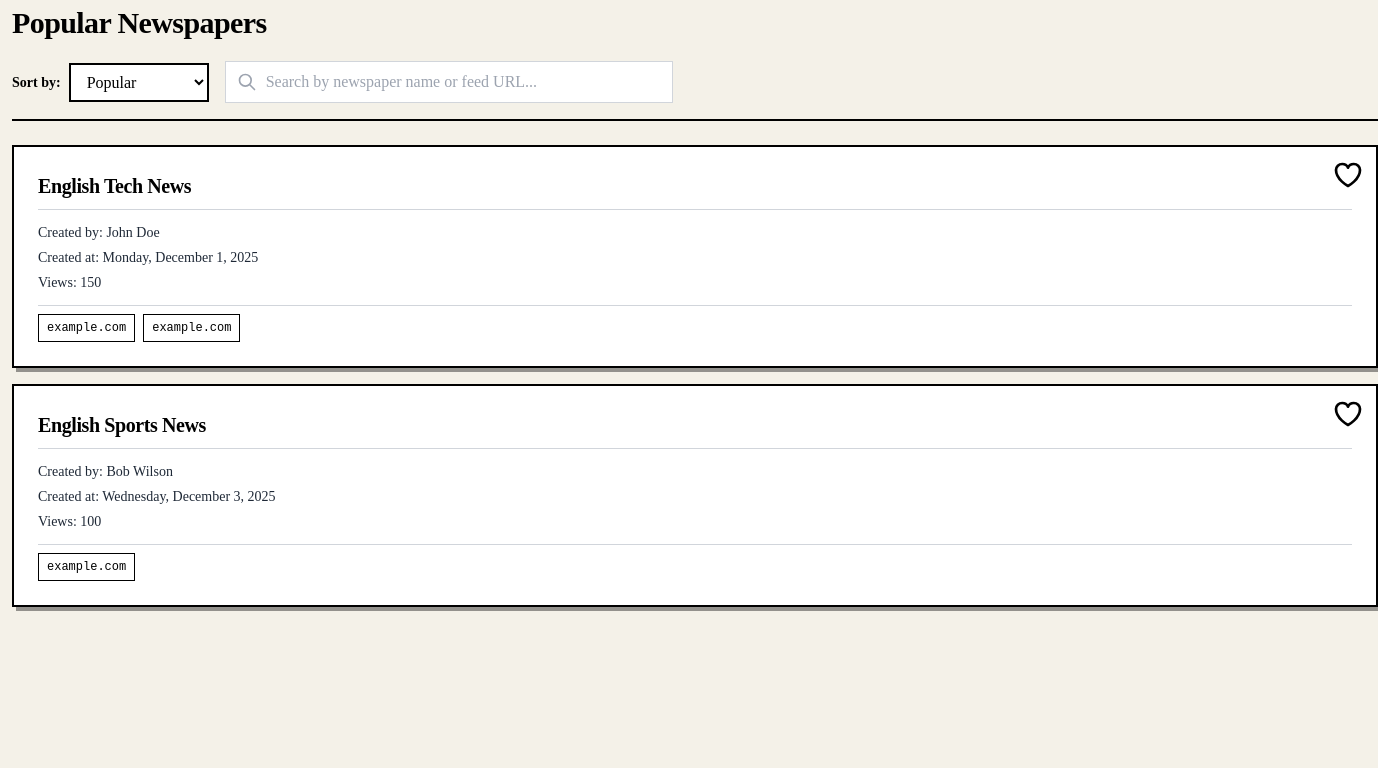
it: PopularNewspapers › Combined Filters › applies both language (auto) and search filters
Expected: the heading "English Tech News" is shown, [38,171,1352,210]
Note: Search for "sports"
Step 1. Type "sports" into the field with placeholder "Search by newspaper name or feed URL..." → (449, 82), box [225,61,673,103]
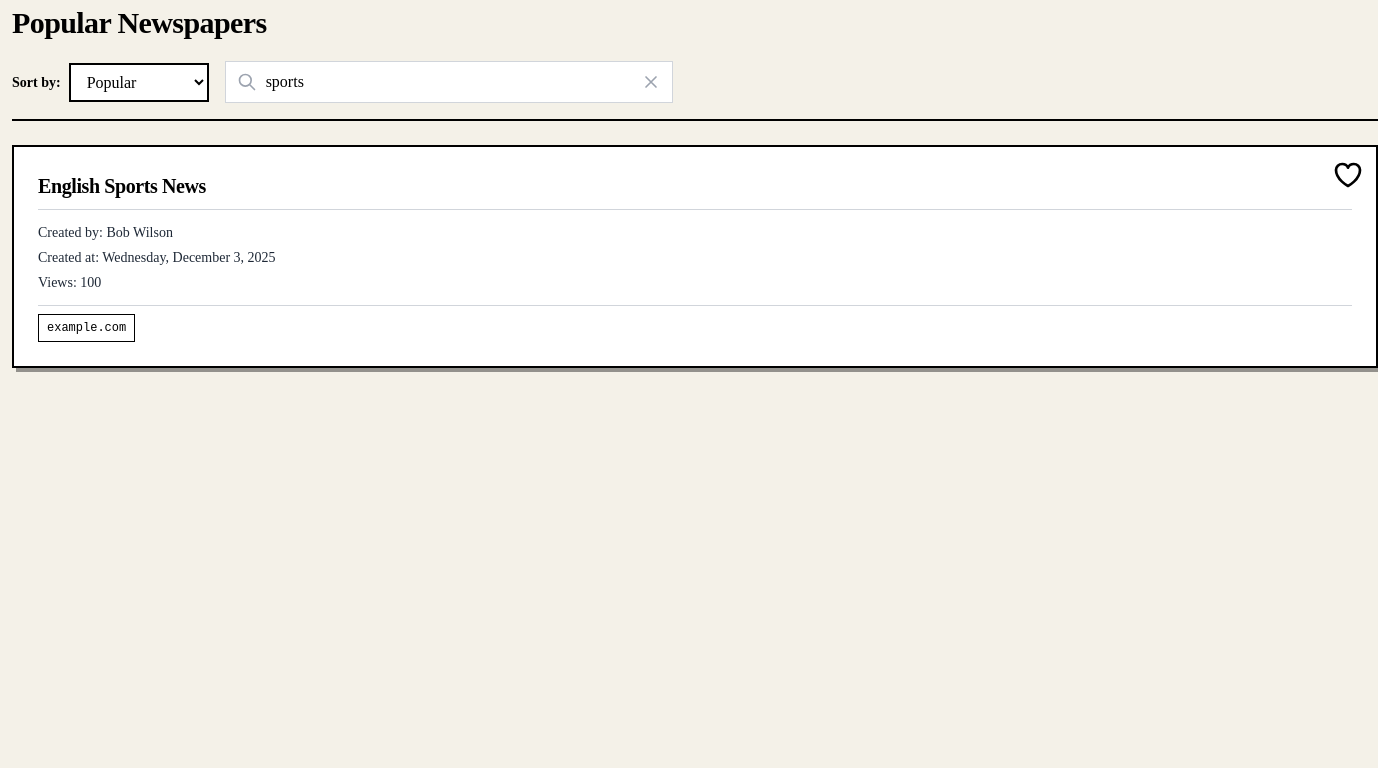
Expected: the heading "English Sports News" is shown, [38,171,1352,210]
Result: the heading "English Tech News" is gone
